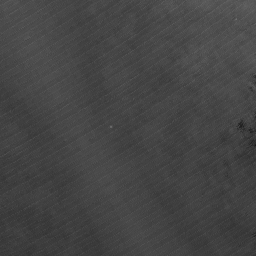Target: (108, 125, 113, 129)
